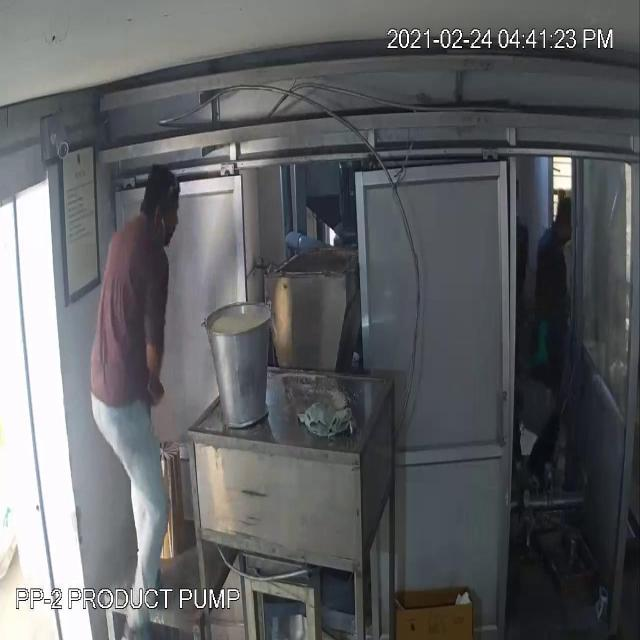no-helmet: (144, 162, 180, 230)
